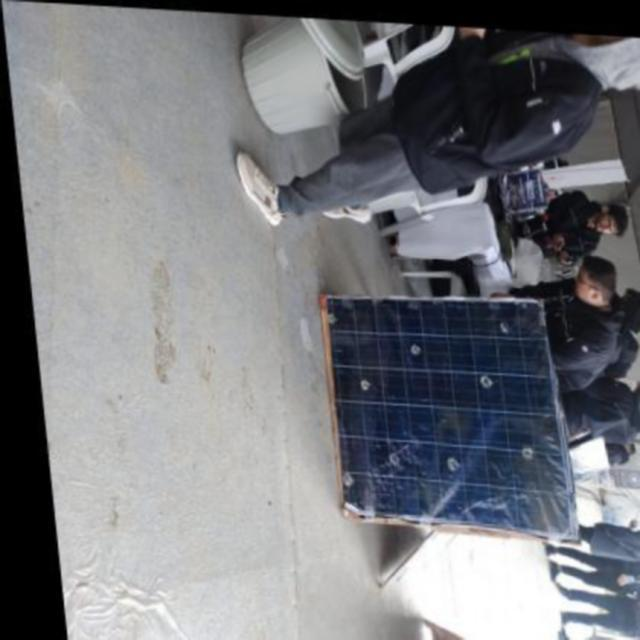soiled: (329, 290, 579, 536)
